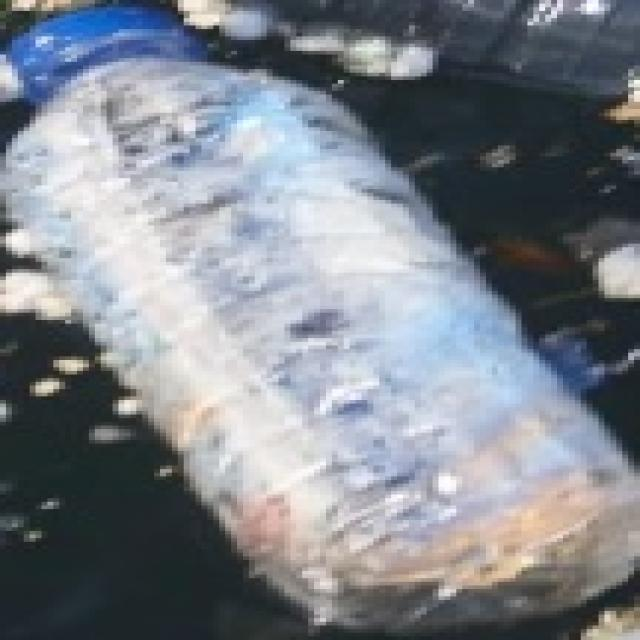plastic bottle: (2, 0, 640, 634)
